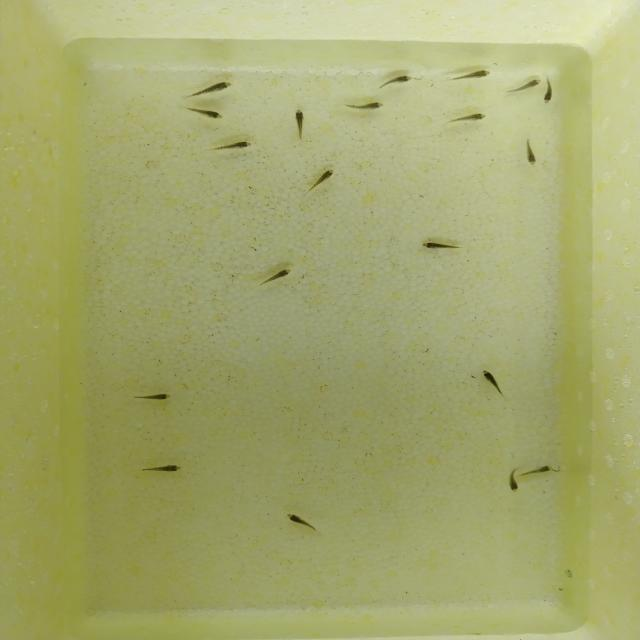fingerling: (450, 68, 496, 84), (344, 99, 393, 114), (197, 79, 240, 96), (376, 72, 416, 90), (477, 367, 505, 392), (149, 458, 184, 478), (308, 166, 338, 189), (280, 510, 312, 530), (263, 266, 293, 286), (416, 239, 458, 253), (519, 144, 543, 168), (516, 463, 555, 477), (141, 390, 178, 404), (218, 140, 265, 151), (288, 108, 309, 131), (443, 114, 492, 123), (192, 109, 232, 119), (518, 78, 542, 93), (542, 85, 556, 108), (504, 478, 522, 494)
